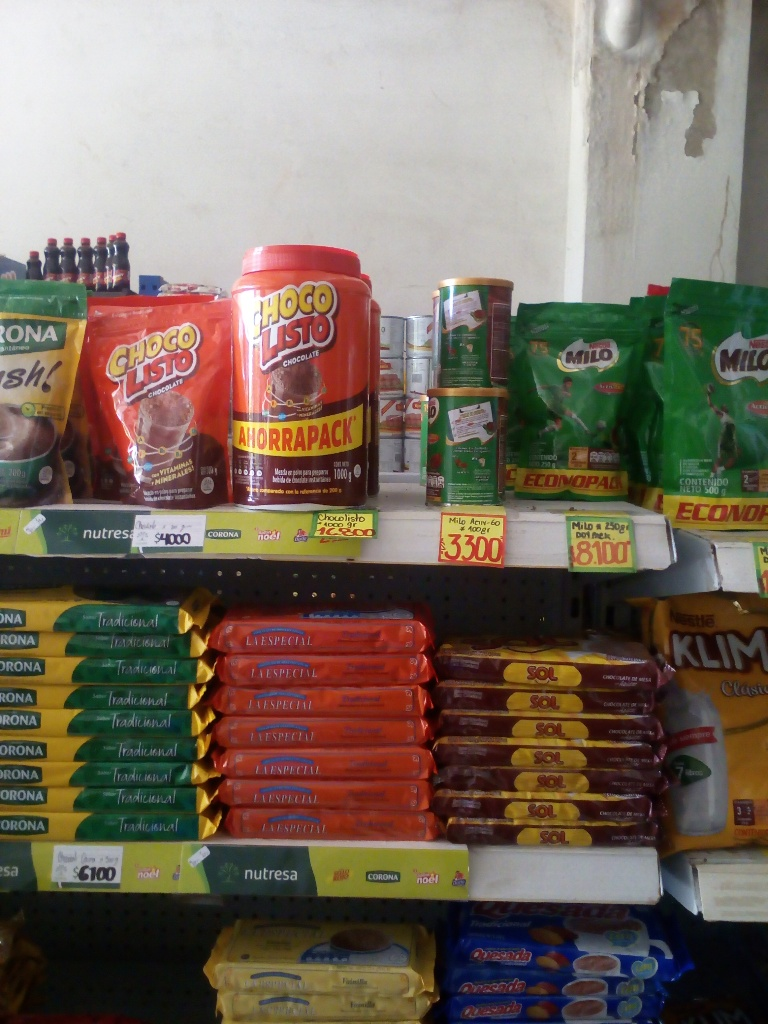COL0170103TRR00100: (225, 236, 374, 510)
